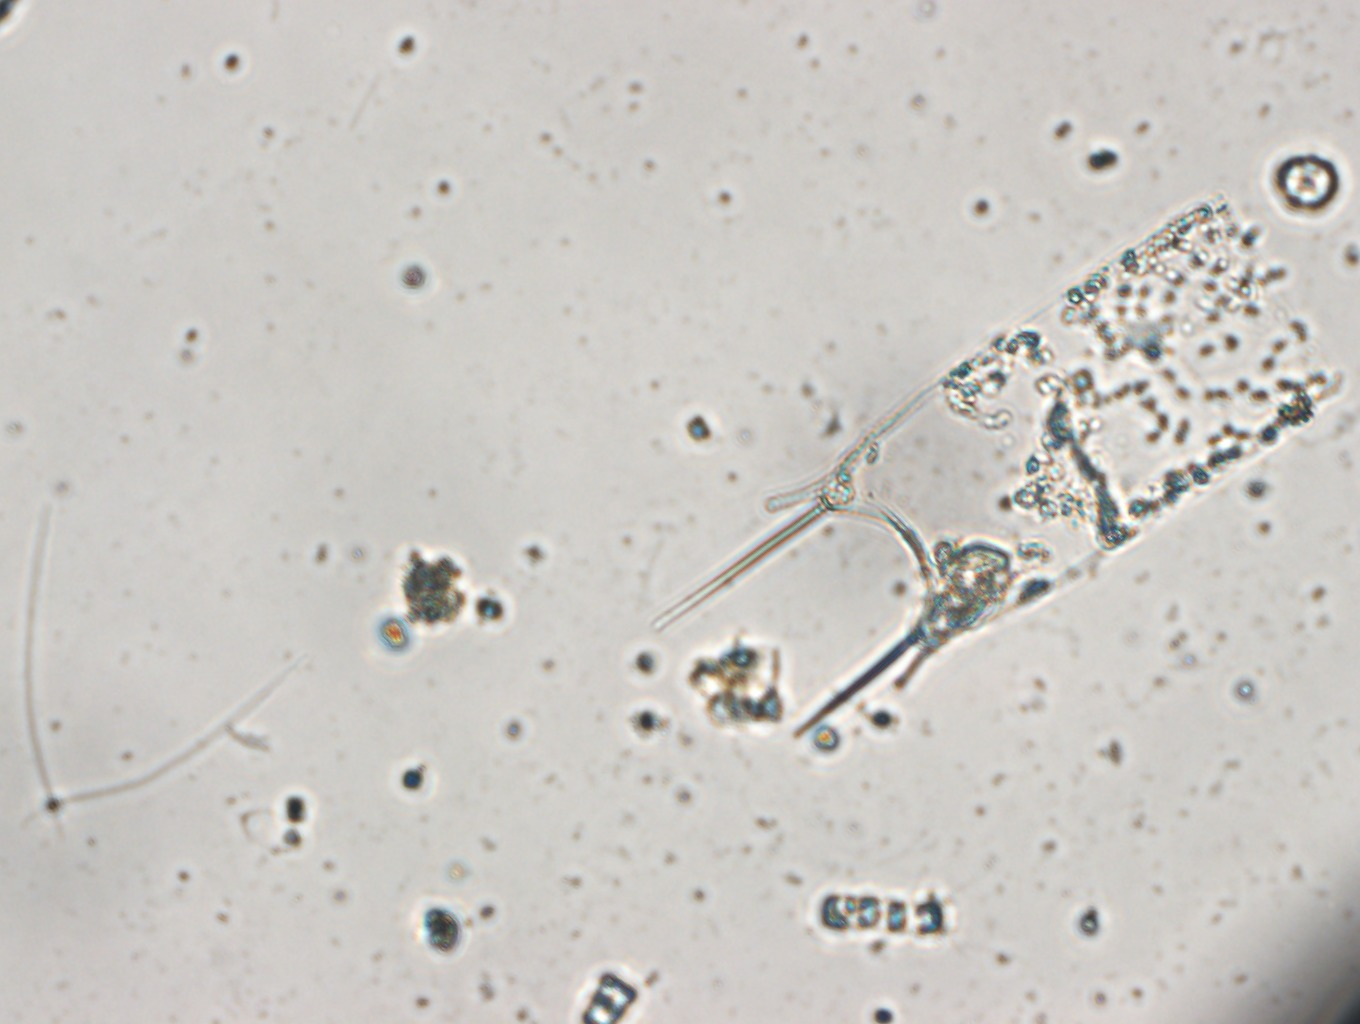biddulphia: (649, 207, 1343, 736)
